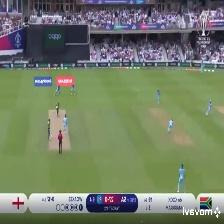batsman: (52, 101, 62, 119)
